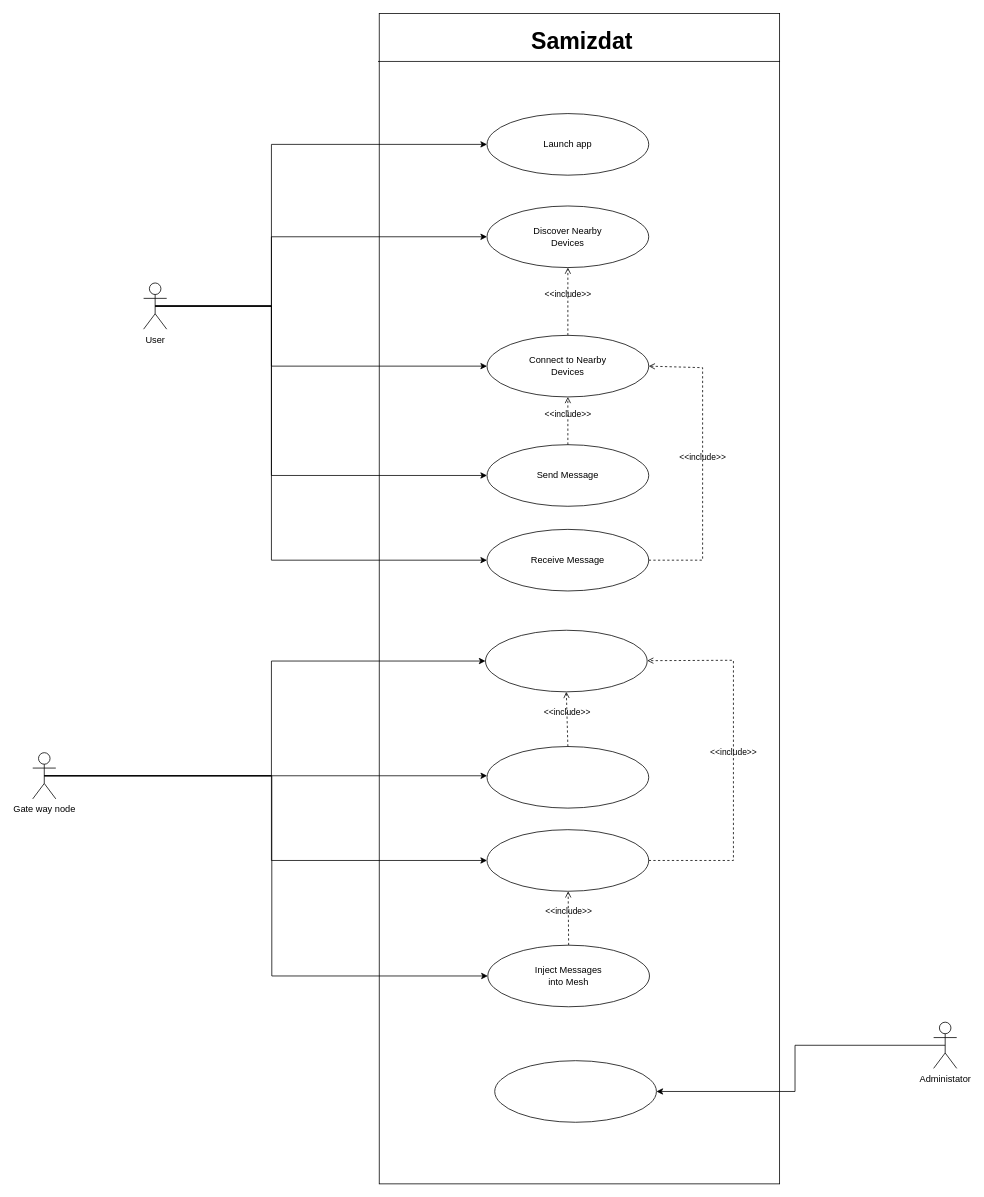
The diagram is 984 pixels wide and 1197 high, and some of its shapes have lost their labels. The shapes that lost their labels are listed below. From the top down, each one's centre as x and y in pixels, then its label:
At point 566,660: "Detect Internet connectivity".
At point 567,777: "Upload Message to cloud".
At point 567,860: "Pull Messages From clud".
At point 575,1091: "Manage Database".
